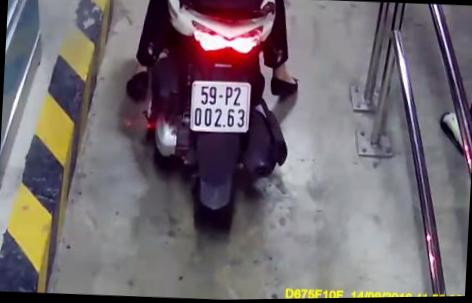LP: (189, 81, 250, 133)
